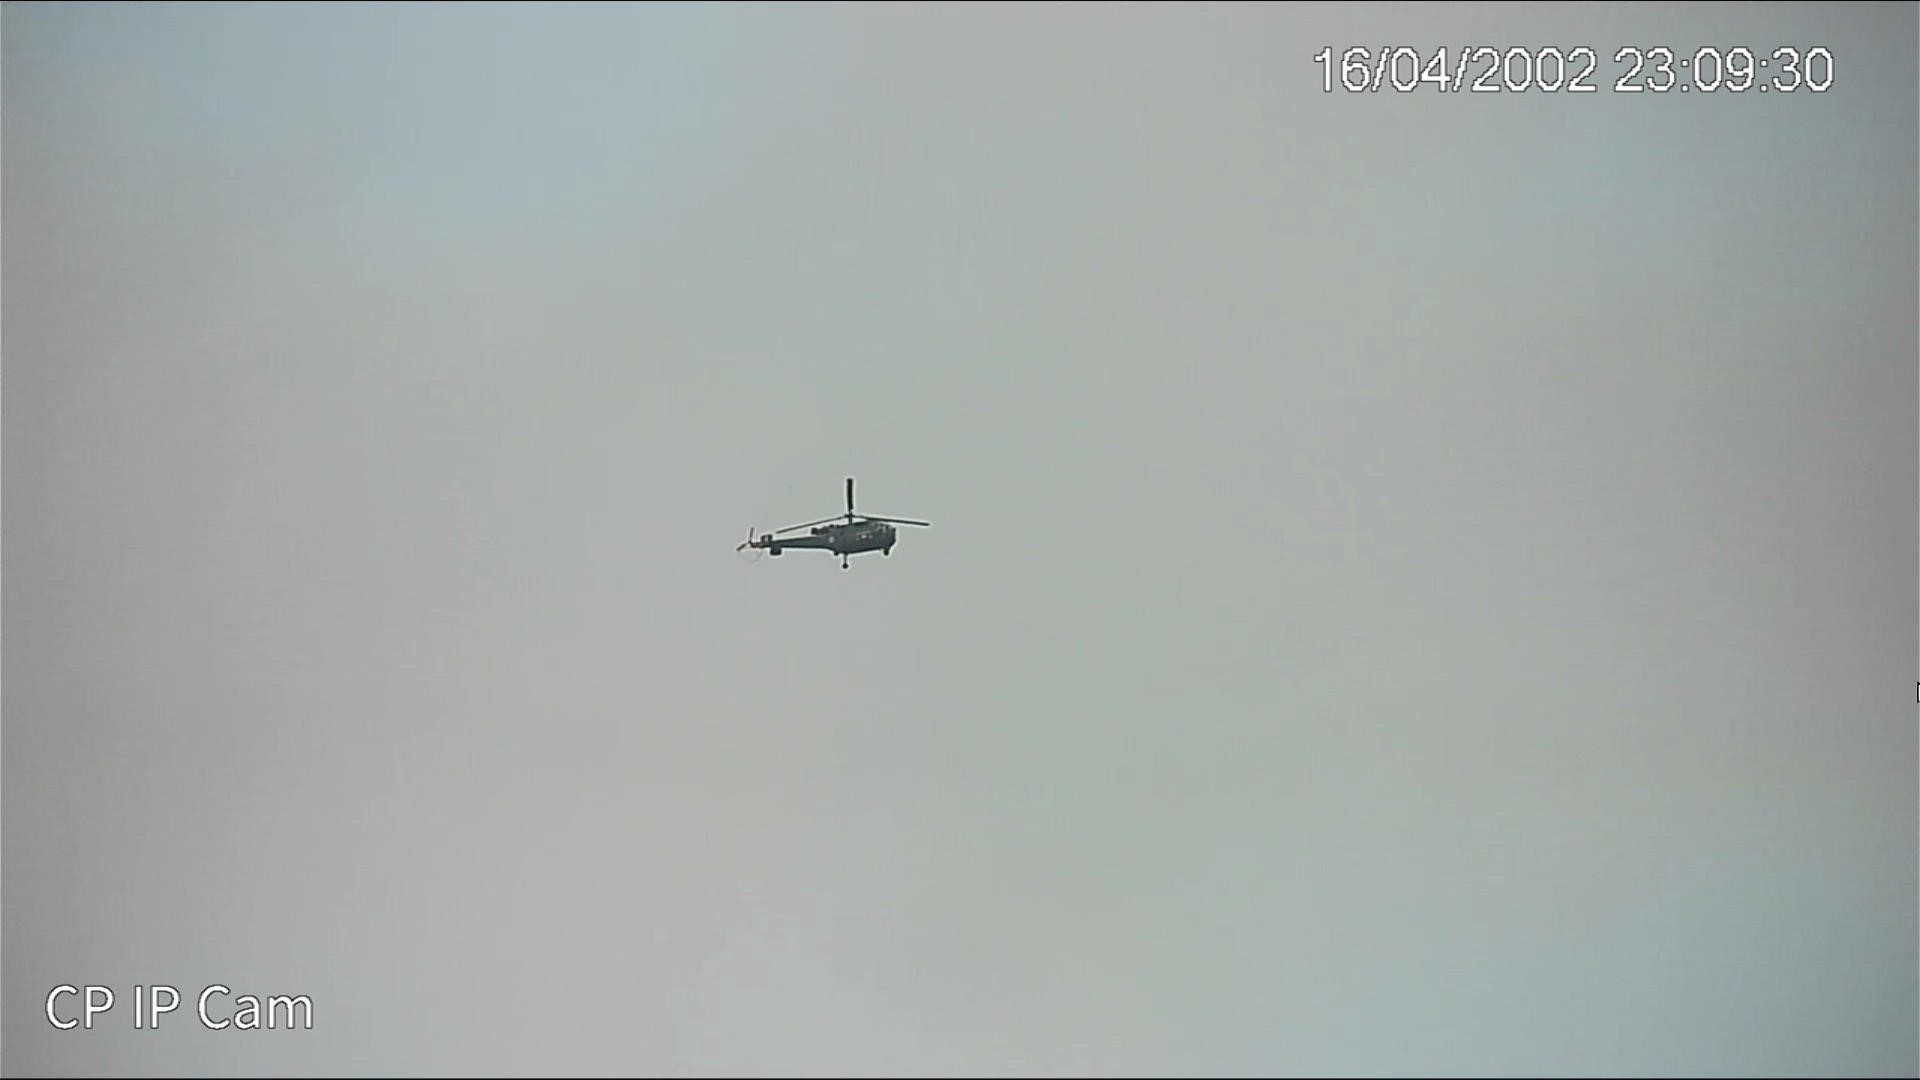SU_30: (727, 502, 913, 564)
